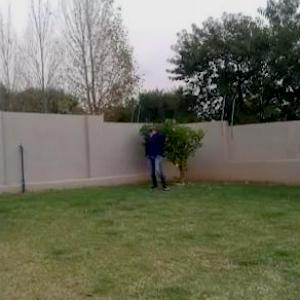follow: (146, 118, 164, 193)
